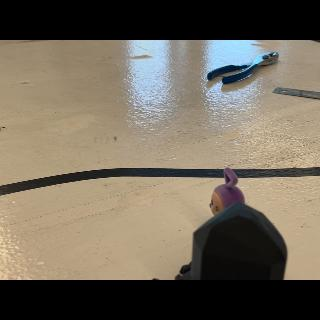teletubby: (209, 167, 245, 216)
